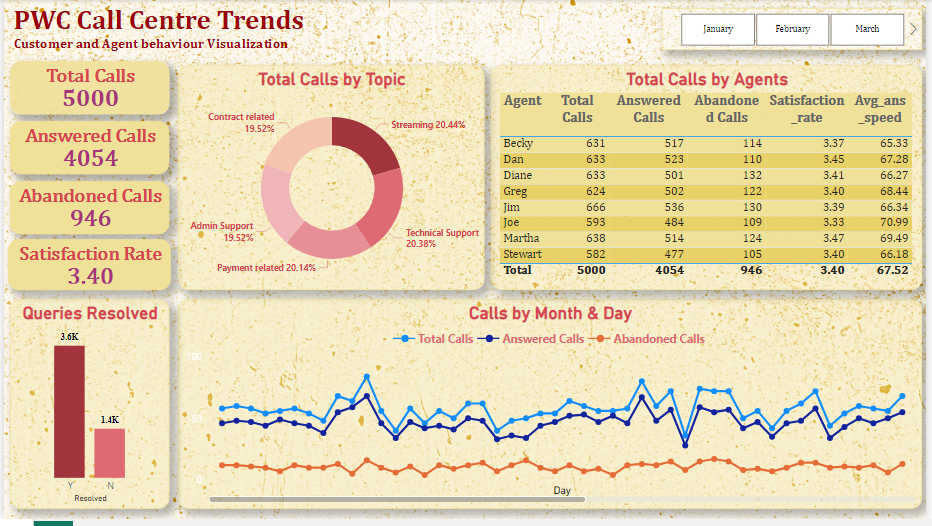

Layout of this report page (visuals, bound fields, positions):
{"tool":"powerbi","page":{"name":"PWC","canvas":[1280,720],"ordinal":0},"visuals":[{"type":"card","title":"Total Calls","fields":{"Values":["Sheet1.Total Calls"]},"box":[8.3,84.6,220.6,73.5],"z":0},{"type":"card","title":"Answered Calls","fields":{"Values":["Sheet1.Answered Calls"]},"box":[8.3,167.9,220.6,73.5],"z":1000},{"type":"card","title":"Abandoned Calls","fields":{"Values":["Sheet1.Abandoned Calls"]},"box":[8.3,251.1,220.6,73.5],"z":2000},{"type":"card","title":"Satisfaction Rate","fields":{"Values":["Sheet1.Overall customer satifcation"]},"box":[5.5,331.6,226.1,70.8],"z":3000},{"type":"donutChart","fields":{"Category":["Sheet1.Topic"],"Y":["Sheet1.Total Calls"]},"box":[241.4,90.2,424.5,312.1],"z":4000},{"type":"lineChart","title":"Calls by Month & Day","fields":{"Category":["Sheet1.Date.Variation.Date Hierarchy.Month","Sheet1.Date.Variation.Date Hierarchy.Day"],"Y":["Sheet1.Total Calls","Sheet1.Answered Calls","Sheet1.Abandoned Calls"]},"box":[241.4,414.8,1032.1,291.3],"z":5000},{"type":"tableEx","title":"Total Calls by Agents","fields":{"Values":["Sheet1.Agent","Sheet1.Total Calls","Sheet1.Answered Calls","Sheet1.Abandoned Calls","Sheet1.Satisfaction_rate","Sheet1.Avg_ans_speed"]},"box":[675.6,90.2,597.9,312.1],"z":6000},{"type":"textbox","box":[0,0,435.6,101.3],"z":7000},{"type":"slicer","title":"Months","fields":{"Values":["Sheet1.Date.Variation.Date Hierarchy.Month"]},"box":[912.8,11.1,360.7,58.3],"z":8000},{"type":"columnChart","title":"Queries Resolved","fields":{"Category":["Sheet1.Resolved"],"Y":["Sheet1.Total Calls"]},"box":[8.3,414.8,220.6,291.3],"z":9000}]}

Visuals, with their boxes in screenshot pixels (x1, y1, x2, y2), scaled from the page's 1280x720 canvas onto the 932x526 screenshot:
"Total Calls" card: <box>6,62,167,116</box>
"Answered Calls" card: <box>6,123,167,176</box>
"Abandoned Calls" card: <box>6,183,167,237</box>
"Satisfaction Rate" card: <box>4,242,169,294</box>
donutChart - Sheet1.Topic x Sheet1.Total Calls: <box>176,66,485,294</box>
"Calls by Month & Day" lineChart: <box>176,303,927,516</box>
"Total Calls by Agents" tableEx: <box>492,66,927,294</box>
textbox: <box>0,0,317,74</box>
"Months" slicer: <box>665,8,927,51</box>
"Queries Resolved" columnChart: <box>6,303,167,516</box>
